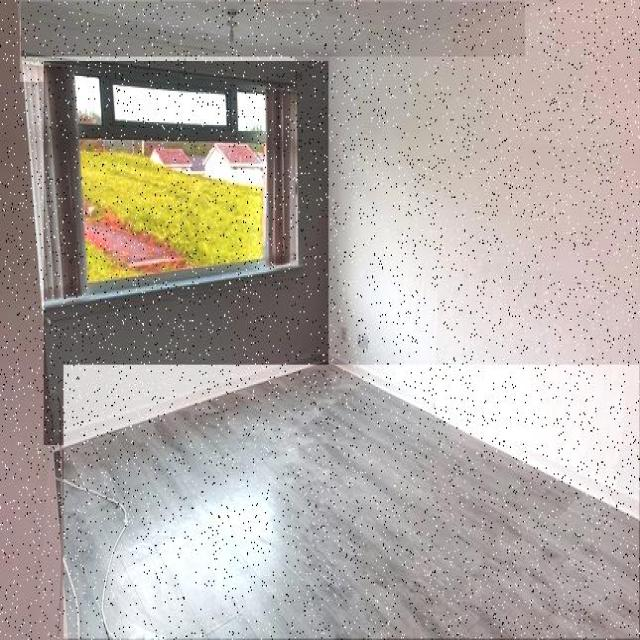Wall: (330, 2, 639, 515), (64, 365, 640, 639), (44, 61, 328, 445), (22, 1, 524, 57), (20, 20, 295, 82), (65, 487, 121, 637), (67, 581, 74, 639)
